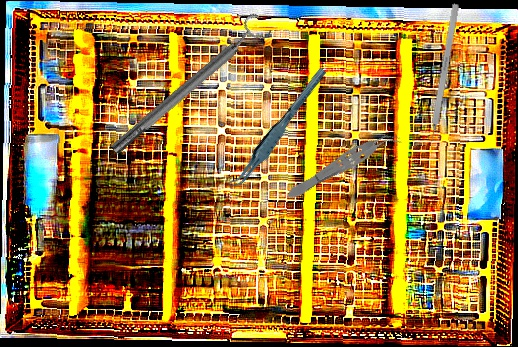Fixation Ring: (102, 10, 275, 162)
Hook Surgical: (426, 3, 460, 154)
Tissue Forceps: (217, 66, 339, 192), (282, 124, 404, 206)
